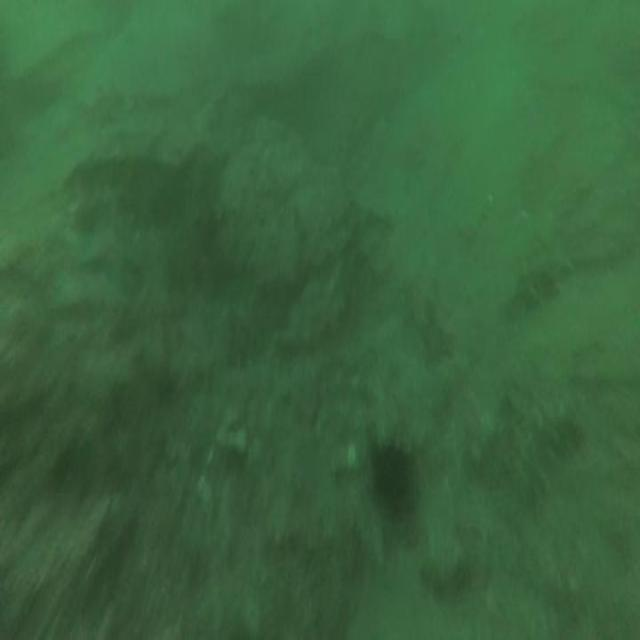echinus: (372, 446, 409, 514)
holothurian: (507, 394, 575, 492), (506, 245, 572, 310)
